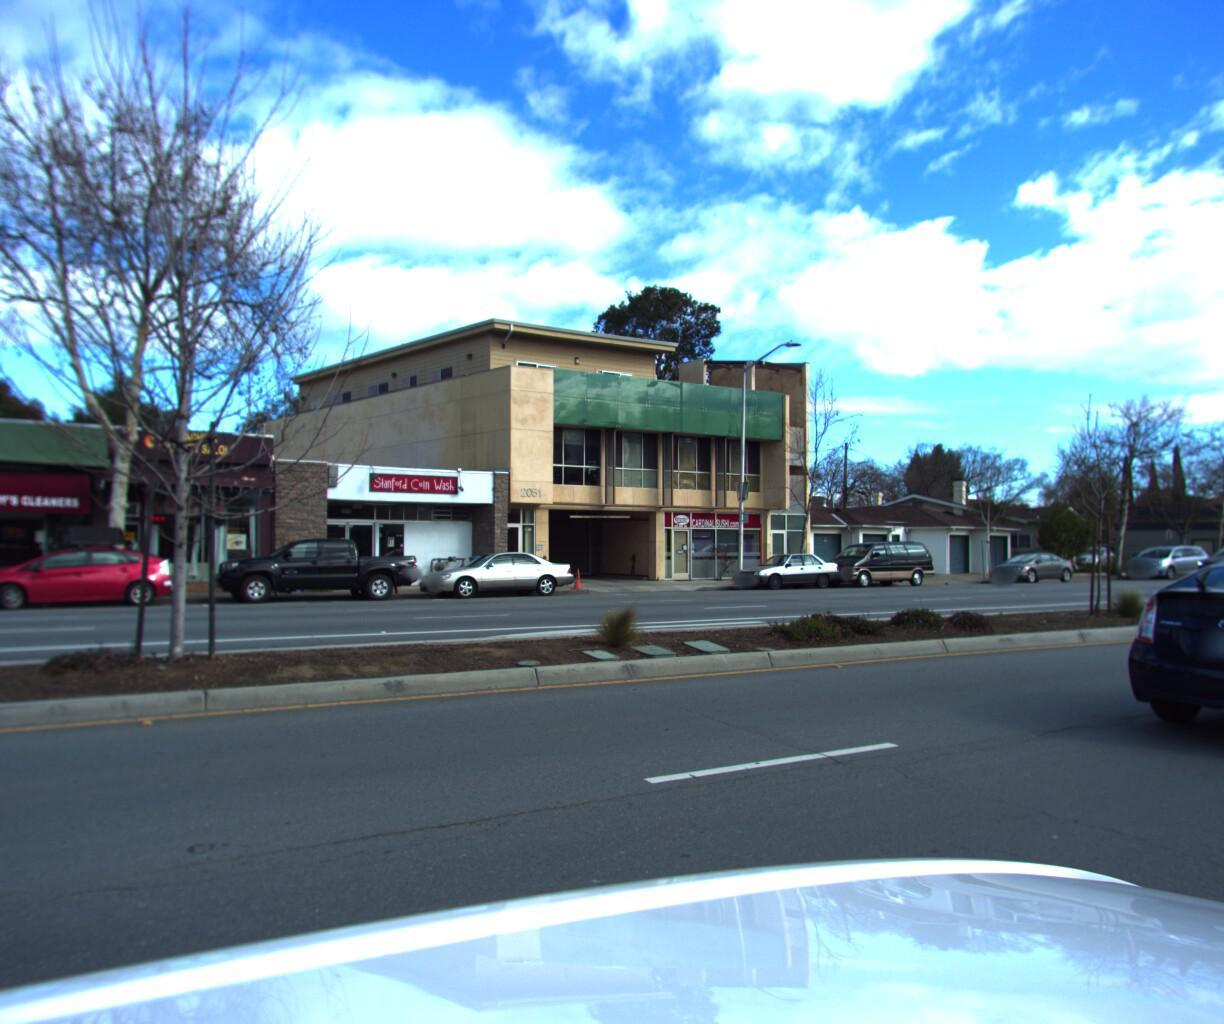car: (1078, 544, 1224, 783), (0, 521, 184, 614), (209, 538, 423, 605), (410, 549, 580, 599), (813, 538, 936, 586), (722, 549, 842, 588), (1112, 539, 1210, 577), (979, 548, 1076, 582), (1187, 539, 1224, 575)
